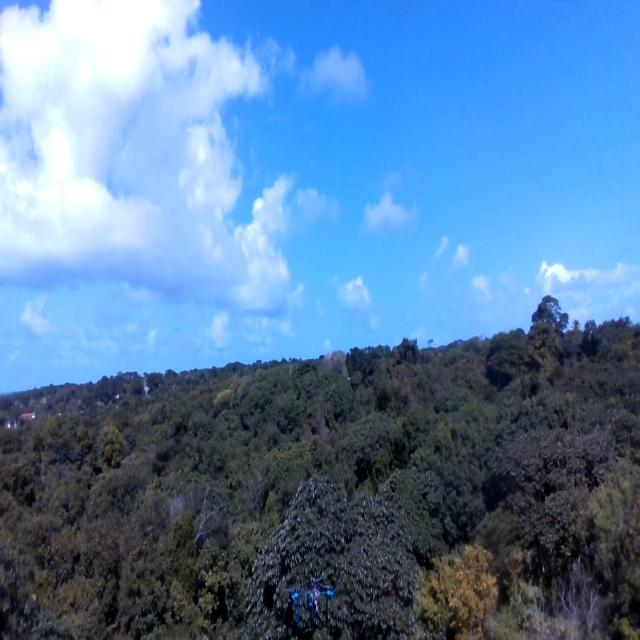-uav-: (280, 572, 343, 638)
